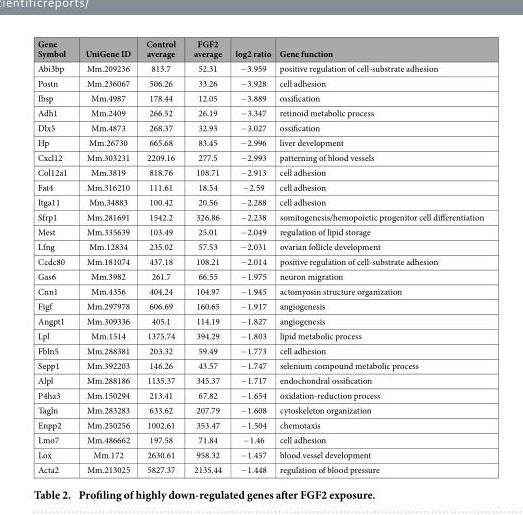table: (36, 37, 483, 475)
table column: (274, 37, 483, 475), (75, 37, 137, 475), (227, 37, 274, 475), (137, 37, 183, 475), (183, 37, 227, 475), (36, 37, 75, 475)
table column header: (36, 37, 483, 60)
table row: (36, 37, 483, 60), (36, 60, 483, 75), (36, 75, 483, 90), (36, 90, 483, 105), (36, 119, 483, 134), (36, 134, 483, 149), (36, 149, 483, 164), (36, 164, 483, 179), (36, 179, 483, 194), (36, 194, 483, 209), (36, 209, 483, 224), (36, 238, 483, 253), (36, 253, 483, 268), (36, 268, 483, 283), (36, 283, 483, 298), (36, 298, 483, 313), (36, 313, 483, 328), (36, 342, 483, 357), (36, 357, 483, 372), (36, 372, 483, 387), (36, 387, 483, 402), (36, 402, 483, 417), (36, 417, 483, 432), (36, 446, 483, 461), (36, 105, 483, 119), (36, 224, 483, 238), (36, 328, 483, 342), (36, 432, 483, 446), (36, 461, 483, 475)
